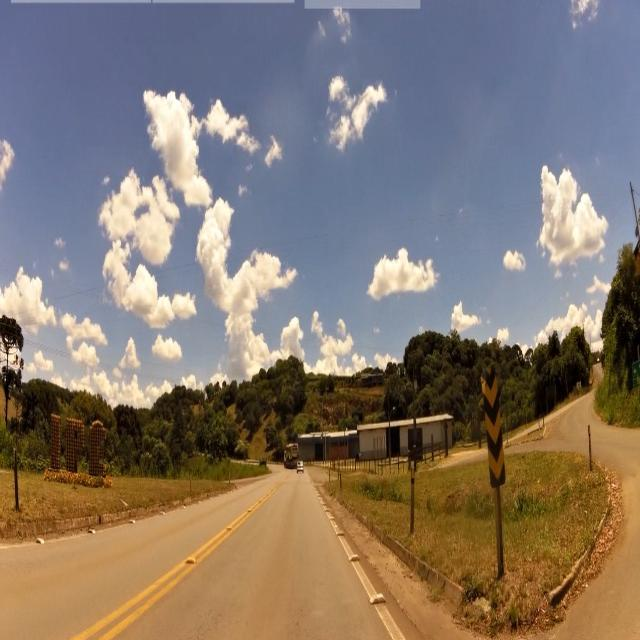MP: (481, 368, 507, 488)
